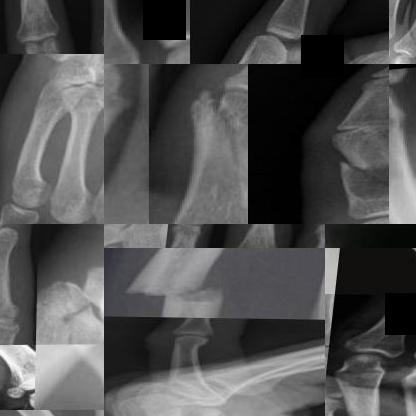fracture: (187, 81, 247, 209), (123, 260, 250, 316), (149, 383, 234, 412), (52, 303, 103, 345), (353, 156, 388, 208), (389, 53, 415, 64)
